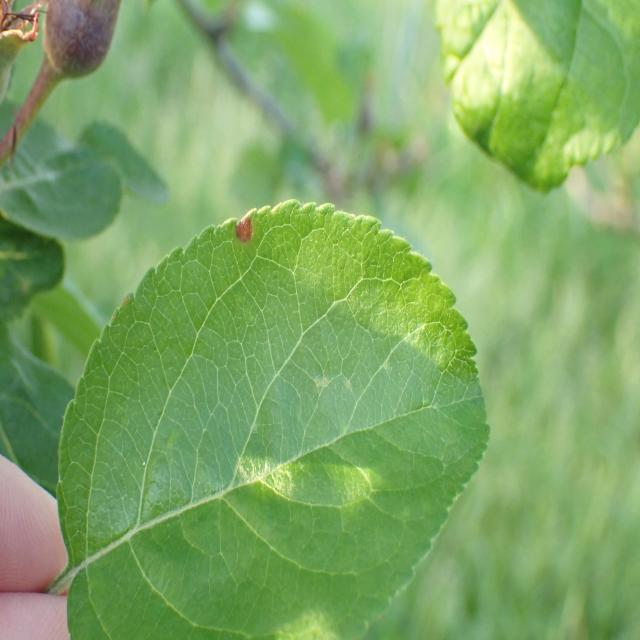Black Rot: (225, 209, 265, 266)
